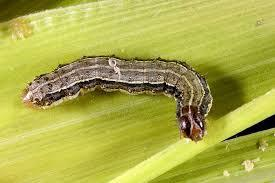fallarmy_worm: (17, 52, 217, 144)
